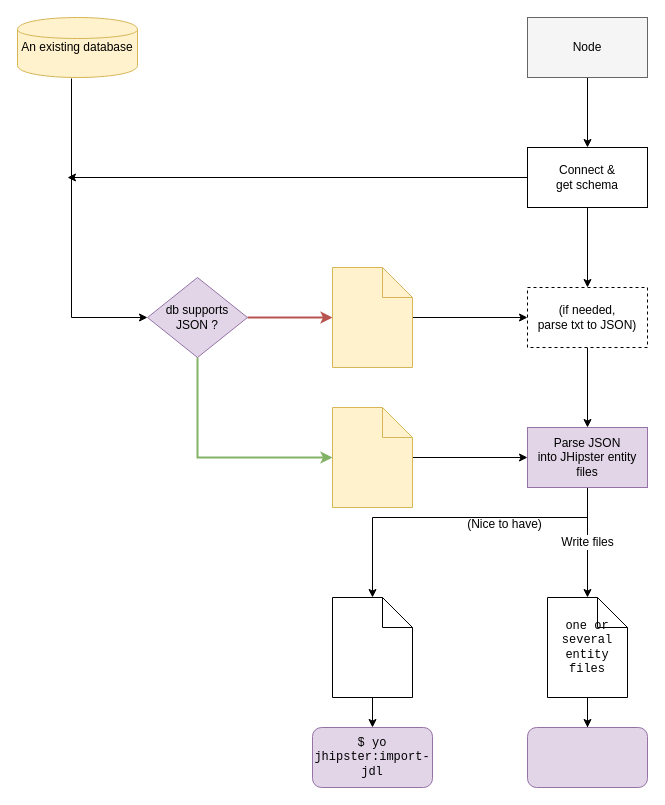
The diagram is 665 pixels wide and 805 high, and some of its shapes have lost their labels. The shapes that lost their labels are listed below. From the top down, each one's centre as x and y in pixels, then its label:
At pixel 372 317: "schema.txt".
At pixel 372 457: "schema.json".
At pixel 372 647: "JDL file".
At pixel 587 757: "$ yo jhipster".
